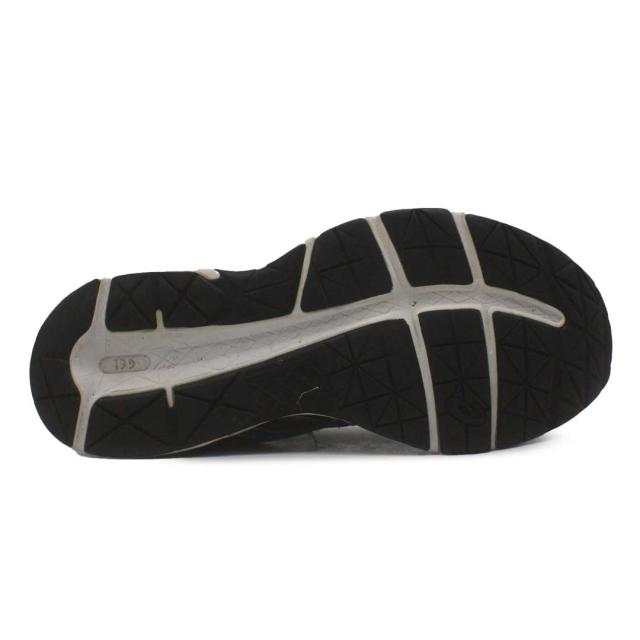outersole: (33, 208, 616, 456)
